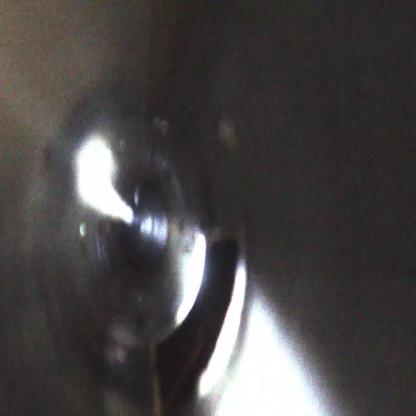Crack2: (150, 235, 245, 405)
